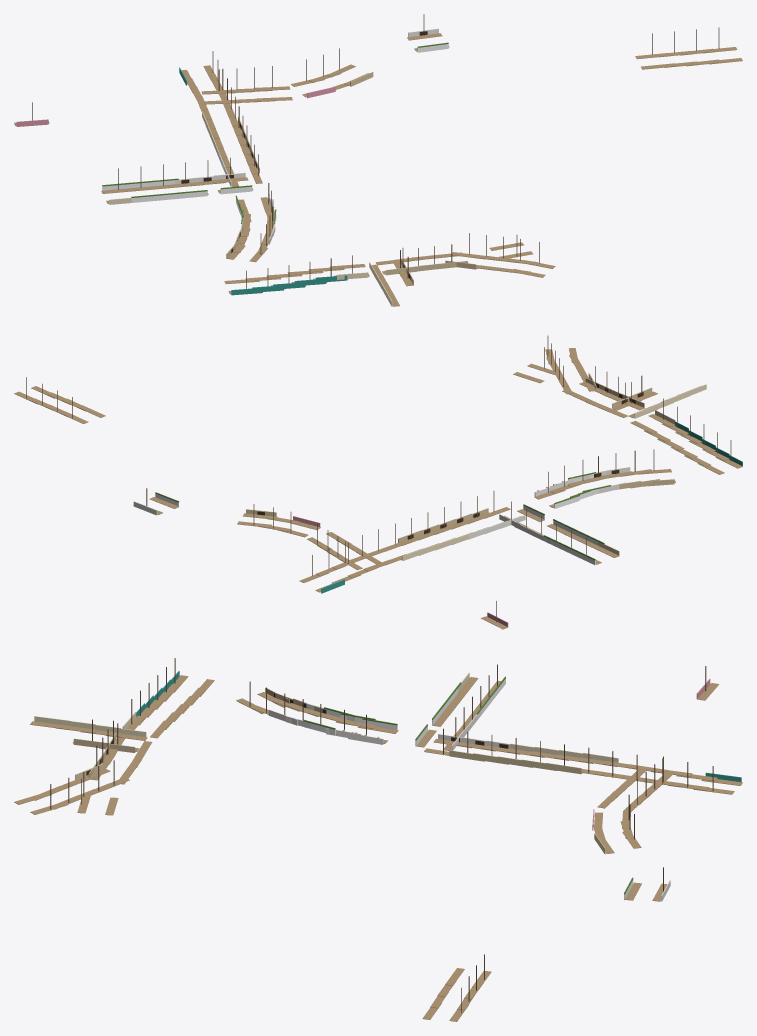
The model's file is noord_res_-27_-20.glb.
3 renders of one model, top to bottom at view 1: azimuth 30°, elevation 25°; view 2: azimuth 150°, elevation 25°; view 3: azimuth 270°, elevation 25°, orthographic. The views are drawn at different scales.
Visible parts, largest first — view 1: noord_res_-27_-20_lod0; view 2: noord_res_-27_-20_lod0; view 3: noord_res_-27_-20_lod0.
Part boxes in pixels (x1,y1,x2,y2): noord_res_-27_-20_lod0: (14, 14, 742, 306); noord_res_-27_-20_lod0: (14, 335, 742, 629); noord_res_-27_-20_lod0: (14, 658, 742, 1021).
Size of what is drawn, in the model's own units: 247 by 12.42 by 213.
